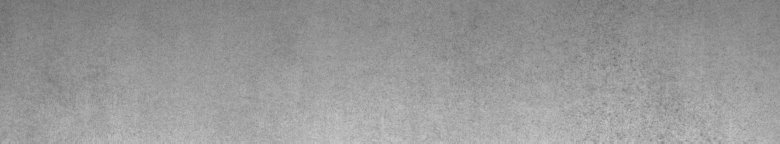ib: (575, 56, 678, 128)
